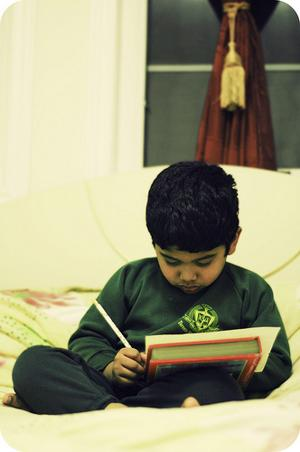person: (4, 163, 292, 421)
